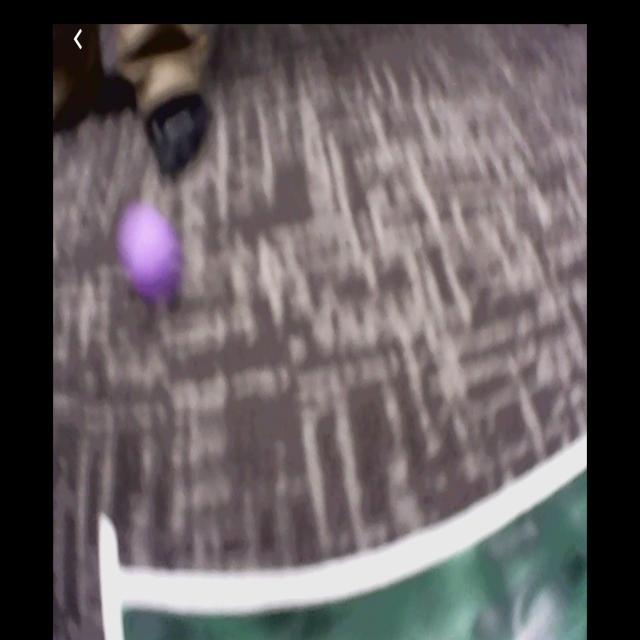ball: (121, 207, 174, 287)
